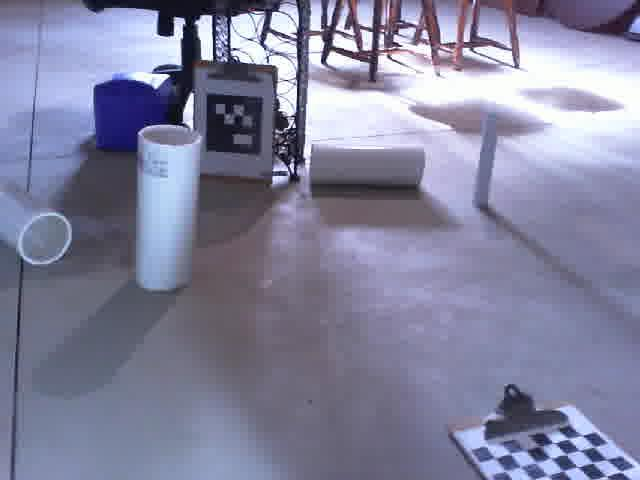coral: (130, 115, 204, 302), (0, 178, 77, 269), (305, 138, 431, 192)
